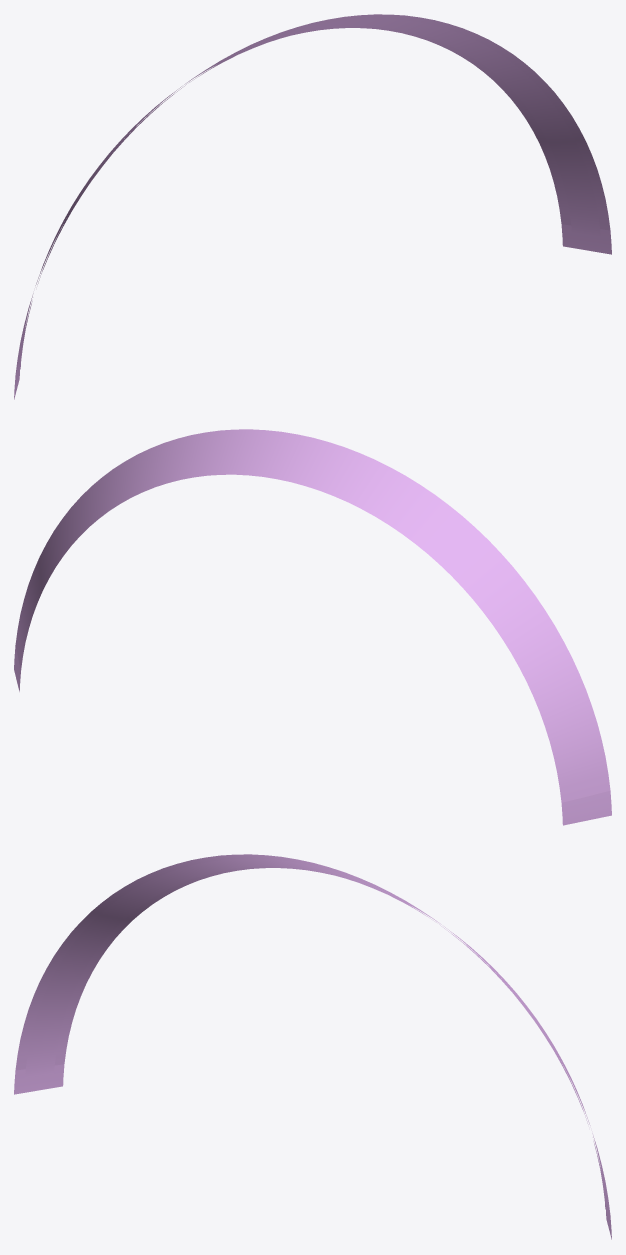
The model's file is Mesh_Note_30.fbx.
3 views of the same model, one above another, from view 1: azimuth 30°, elevation 25°; view 2: azimuth 150°, elevation 25°; view 3: azimuth 330°, elevation 25° (orthographic).
Parts seen in each view (by area): view 1: Mesh_Note_30; view 2: Mesh_Note_30; view 3: Mesh_Note_30.
Part boxes in pixels (x1=…): Mesh_Note_30: x1=14, y1=14, x2=611, y2=399; Mesh_Note_30: x1=14, y1=429, x2=611, y2=825; Mesh_Note_30: x1=14, y1=854, x2=611, y2=1239.
Bounding box in the file's own units: 3.56 × 1.74 × 0.2235.
